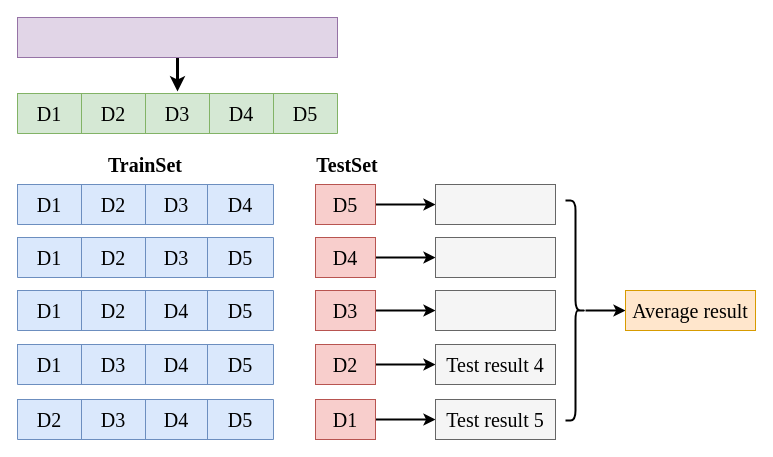
The diagram is 773 pixels wide and 457 high, and some of its shapes have lost their labels. Each missing label, with the box of its shape:
CPPSet1 (D): (16, 16, 338, 58)
Test result 1: (434, 184, 556, 224)
Test result 2: (434, 236, 556, 278)
Test result 3: (434, 290, 556, 330)
